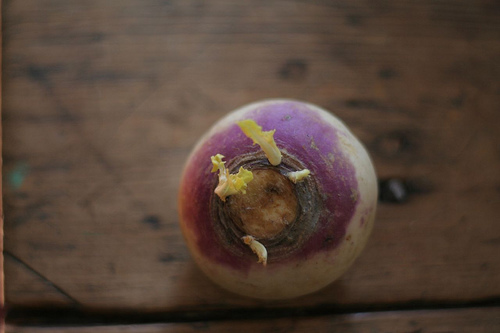turnip: (176, 97, 379, 301)
